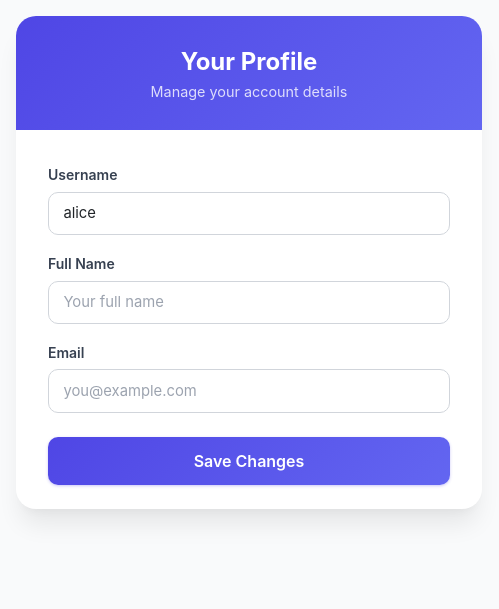
Scenario: ProfilePage › shows error on failed update
Expected: the field showing "alice" is shown, left=48, top=192, right=450, bottom=235
Click the button "Save Changes": (249, 461) left=48, top=437, right=450, bottom=485
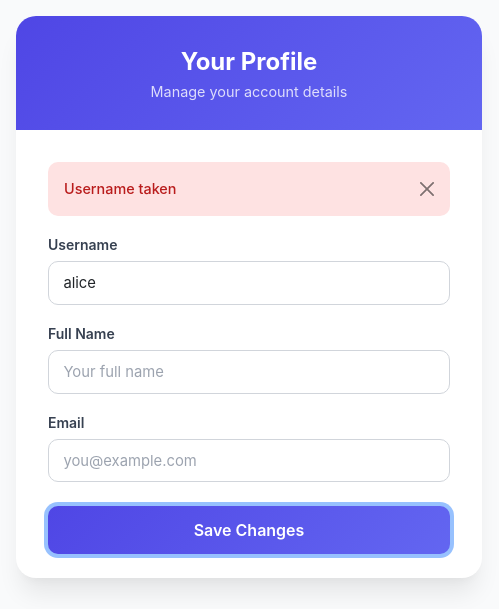
Expected: the text "Username taken" is shown, left=48, top=162, right=450, bottom=216
